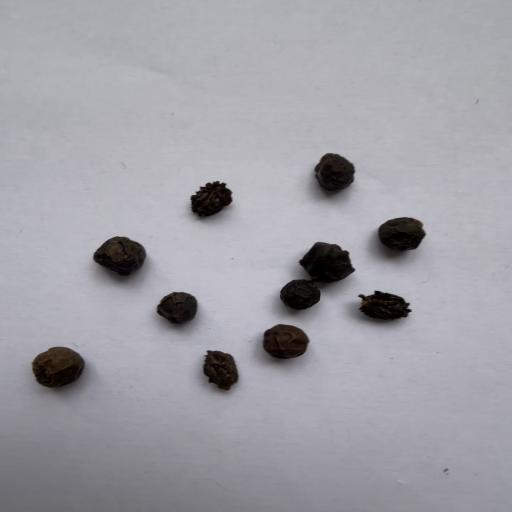Black_pepper: (74, 221, 154, 284), (298, 136, 370, 198), (303, 220, 378, 278), (12, 344, 98, 393), (387, 207, 452, 260), (158, 286, 213, 330), (269, 322, 336, 358), (284, 280, 337, 316)
papaya_seed: (181, 178, 254, 227), (354, 289, 431, 334), (198, 350, 244, 395)
